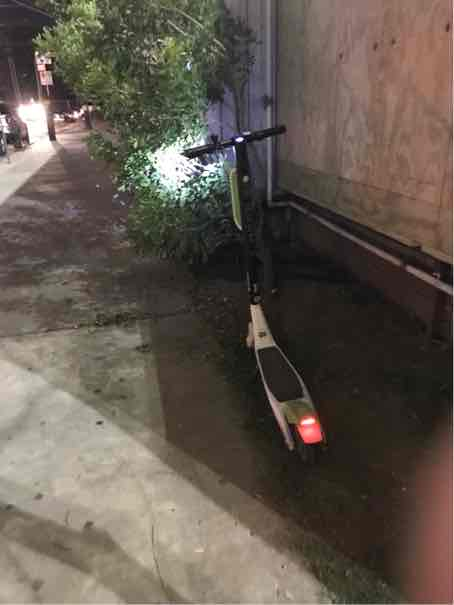scooter: (175, 124, 341, 469)
